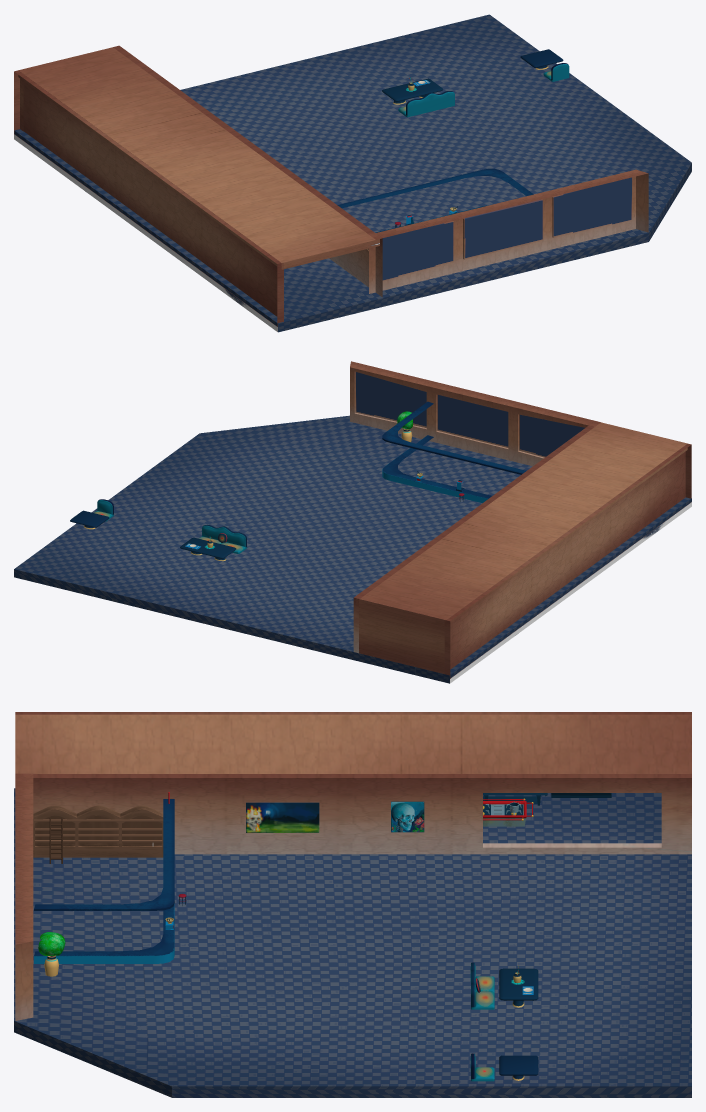
The model's file is InteriorRestaurante.fbx.
3 views of the same model, one above another, from view 1: azimuth 30°, elevation 25°; view 2: azimuth 150°, elevation 25°; view 3: azimuth 270°, elevation 25° (orthographic). The views are drawn at different scales.
Parts seen in each view (by area): view 1: Suelo, EstanteBarra, SofaGrande, MesaGrande, MesaPequeña; view 2: Suelo, EstanteBarra, SofaGrande, MesaGrande; view 3: Suelo, Plato, EstanteBarra, mesatrabajo, MesaGrande, SofaGrande, MesaPequeña, Arbolito.
Boxes of the visible parts, x1,y1,x2,y2 form: Suelo: (14, 14, 691, 332); EstanteBarra: (337, 168, 533, 232); SofaGrande: (398, 91, 454, 117); MesaGrande: (382, 77, 443, 104); MesaPequeña: (520, 49, 563, 69); Suelo: (14, 361, 691, 683); EstanteBarra: (382, 401, 526, 503); SofaGrande: (199, 525, 246, 553); MesaGrande: (180, 536, 236, 561); Suelo: (14, 712, 691, 1097); Plato: (33, 805, 163, 863); EstanteBarra: (34, 799, 174, 963); mesatrabajo: (483, 793, 611, 826); MesaGrande: (499, 965, 538, 1007); SofaGrande: (470, 962, 494, 1009); MesaPequeña: (499, 1055, 538, 1080); Arbolito: (38, 932, 65, 976).
Size of the model in its own units: 2057 by 282 by 1976.
